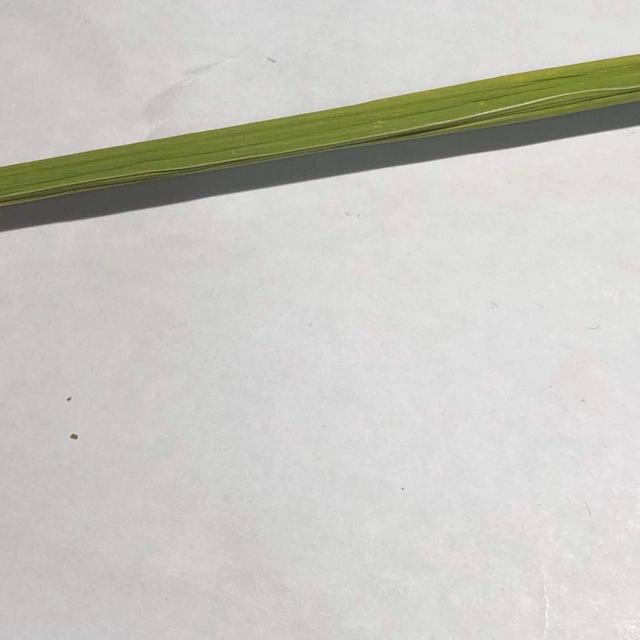Rice_Healthy: (0, 55, 640, 206)
